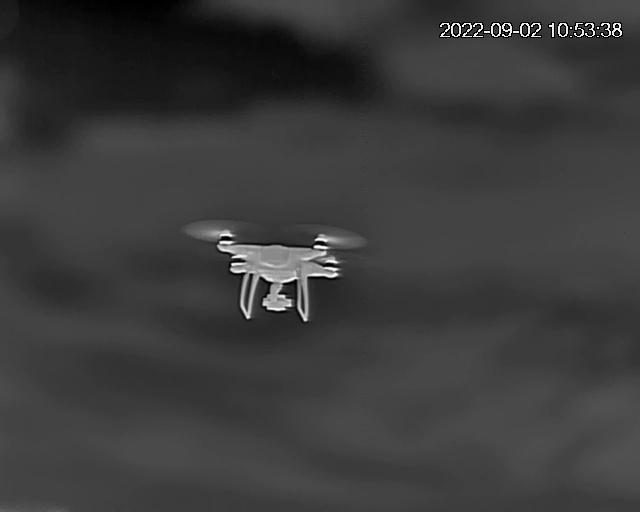DJI-Phantom: (184, 217, 371, 324)
